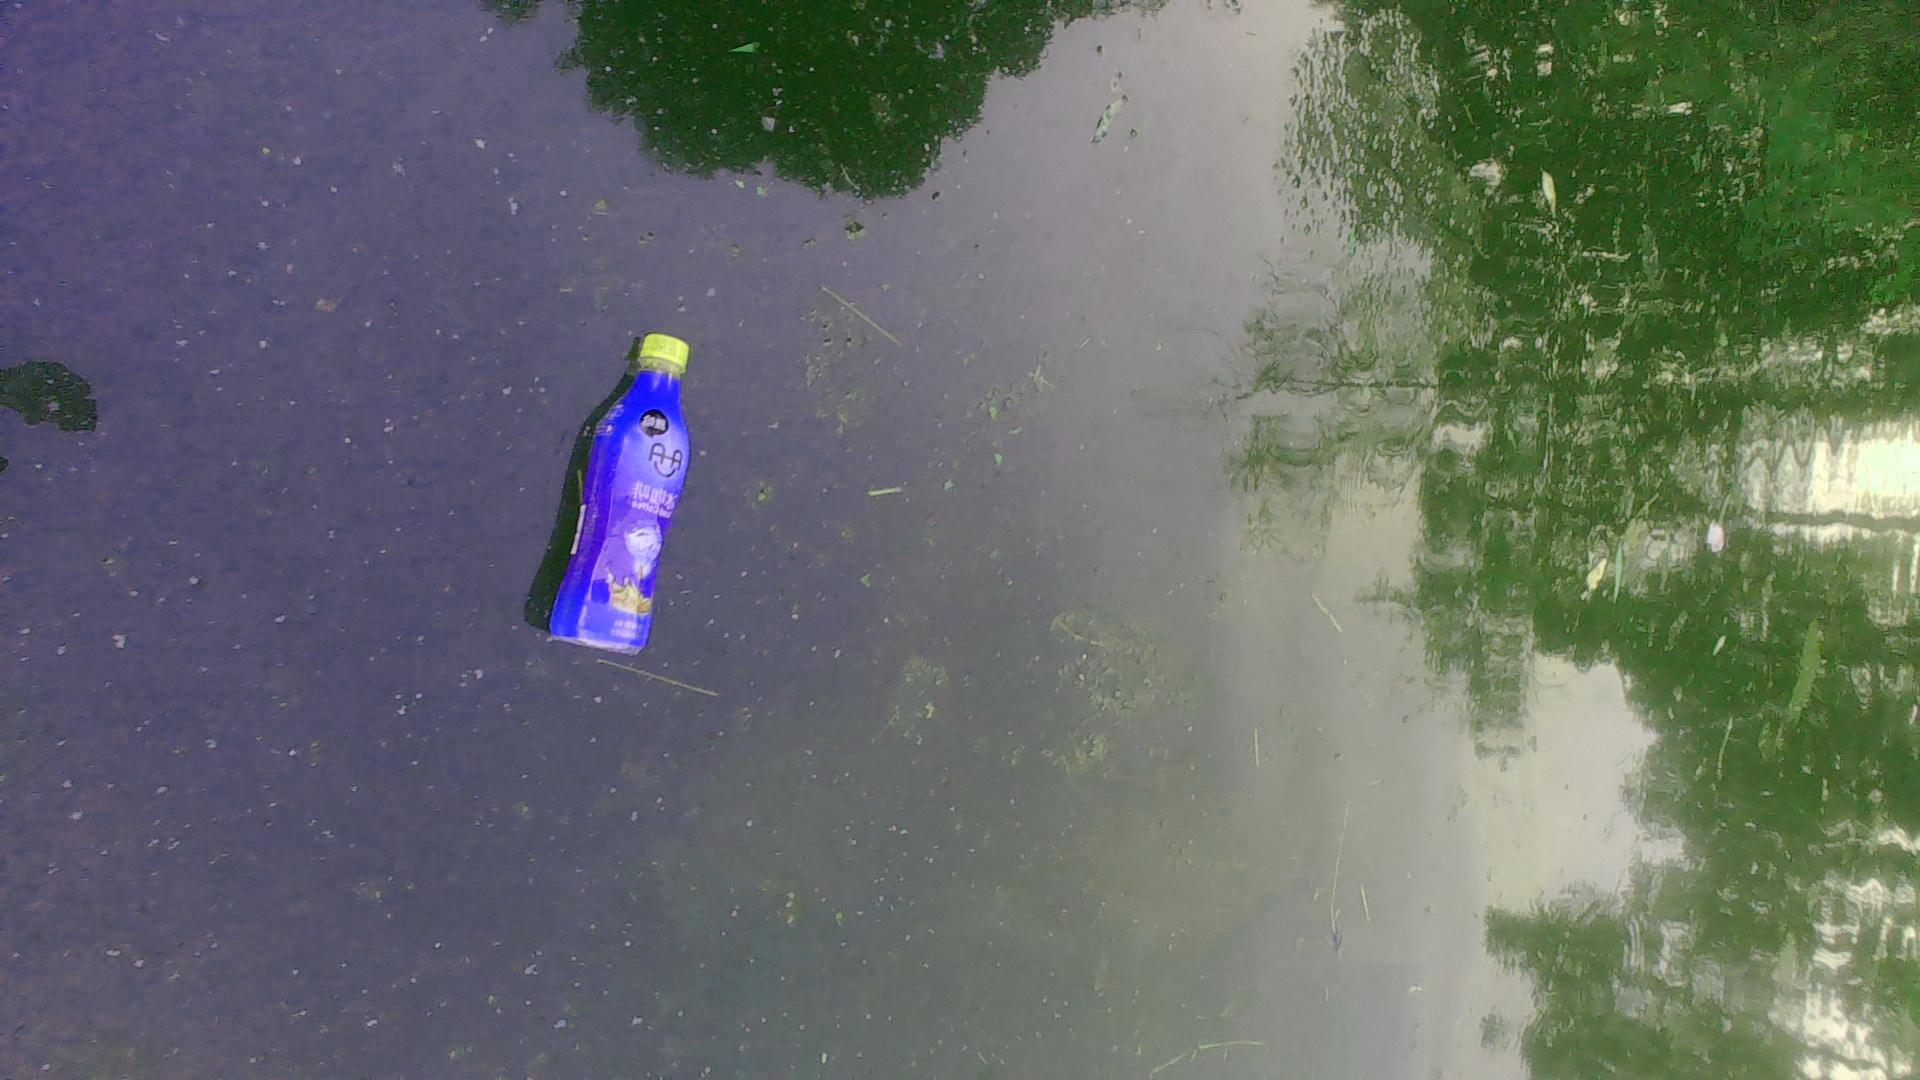Plastic: (538, 328, 700, 659)
